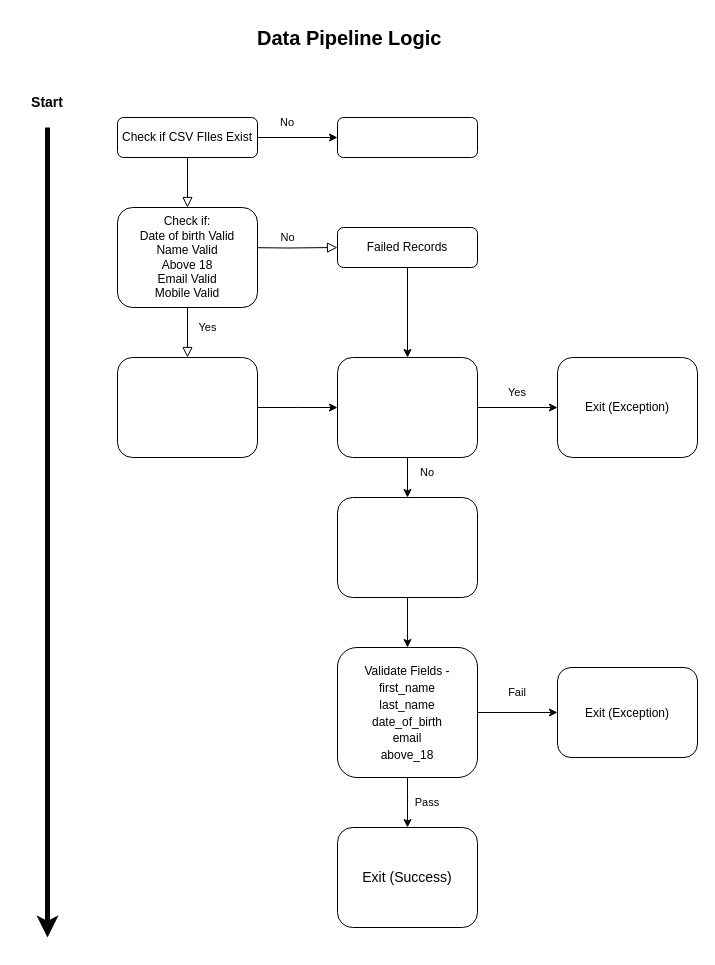
Image size: 715x965. Some labels were removed from this diagram. The shapes that lost their labels are listed below. From the top down, each one's centre as x and y in pixels, then its label:
At point (407, 137): "Exit".
At point (187, 407): "Sucess Records".
At point (407, 407): "Any records Missed?".
At point (407, 547): "Output - Sucess Folder Failed Folder Archive Original File".
